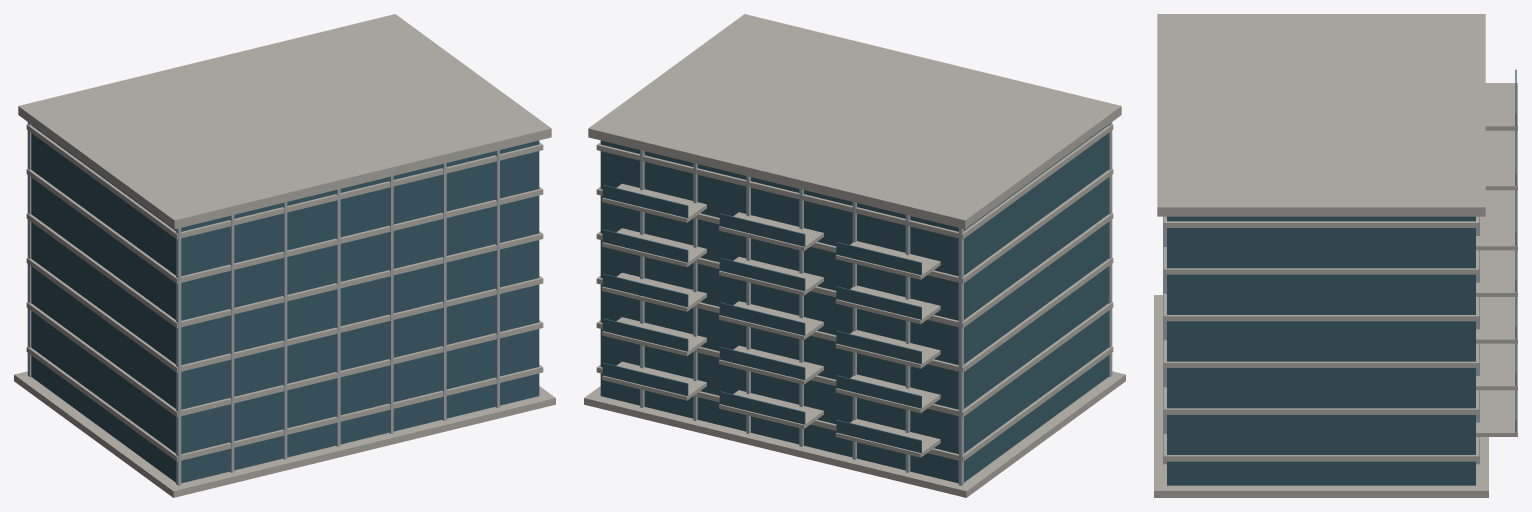
The model's file is skyline-residence.glb.
The picture shows the model from 3 angles, left to right: view 1: azimuth 30°, elevation 25°; view 2: azimuth 150°, elevation 25°; view 3: azimuth 270°, elevation 25°; orthographic projection. The views are drawn at different scales.
Visible parts, largest first — view 1: SkylineResidence_Glazing, SkylineResidence_Concrete, SkylineResidence_Metal; view 2: SkylineResidence_Glazing, SkylineResidence_Concrete, SkylineResidence_Metal; view 3: SkylineResidence_Concrete, SkylineResidence_Glazing, SkylineResidence_Metal.
Boxes of the visible parts, x1,y1,x2,y2 form: SkylineResidence_Glazing: [31, 125, 539, 483]; SkylineResidence_Concrete: [14, 14, 555, 497]; SkylineResidence_Metal: [27, 122, 499, 485]; SkylineResidence_Glazing: [600, 125, 1108, 483]; SkylineResidence_Concrete: [584, 14, 1125, 497]; SkylineResidence_Metal: [640, 122, 1112, 485]; SkylineResidence_Concrete: [1154, 14, 1517, 497]; SkylineResidence_Glazing: [1167, 69, 1516, 485]; SkylineResidence_Metal: [1163, 216, 1479, 464].
Bounding box in the file's own units: 36 × 24.8 × 28.25.
